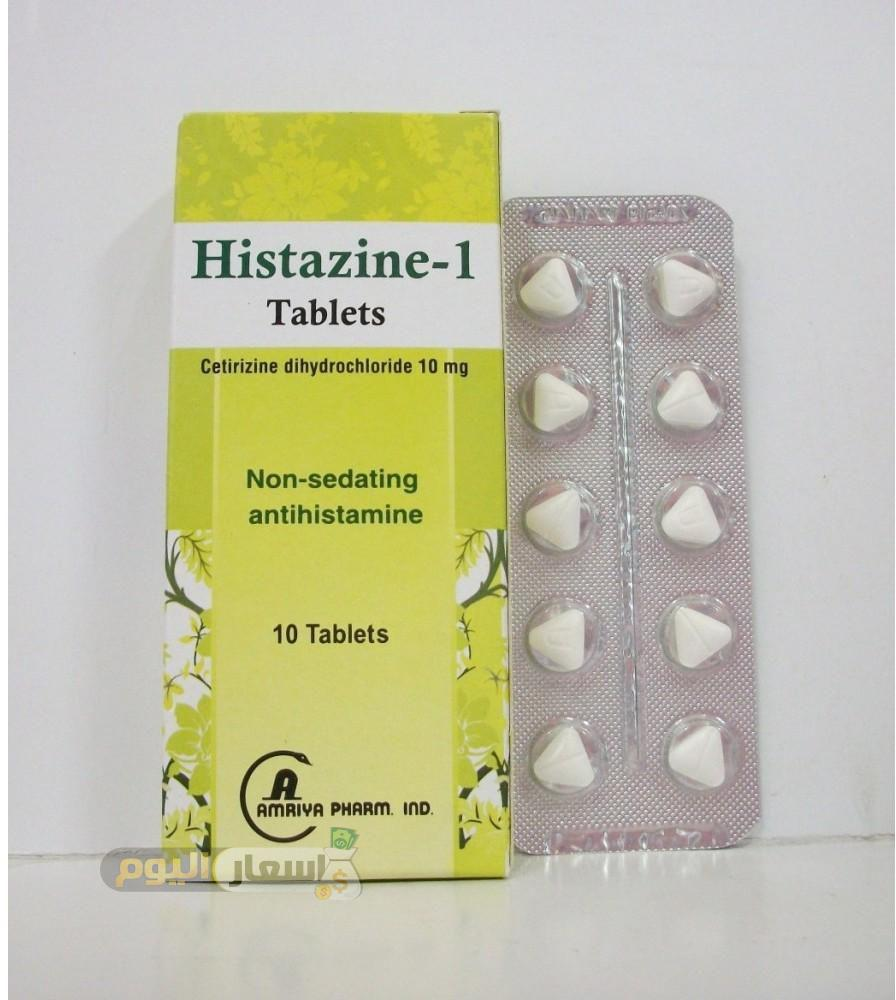Medicine: (152, 95, 520, 905)
